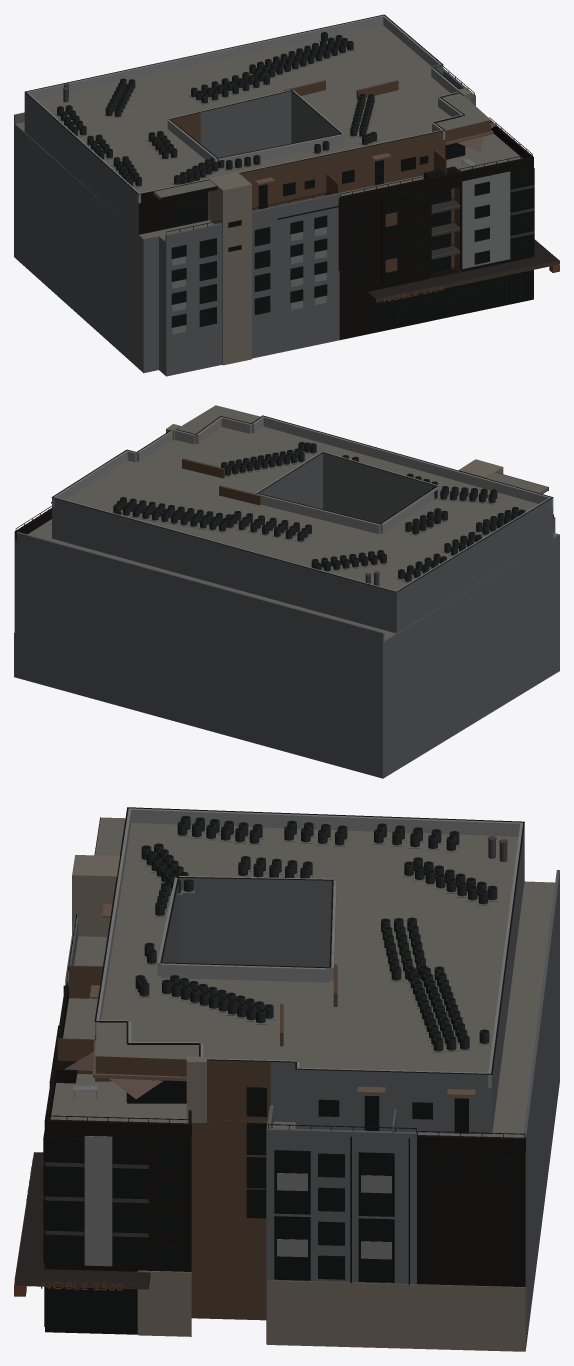
File: noble-2500-look.glb
The picture shows the model from 3 angles, top to bottom: view 1: azimuth 30°, elevation 25°; view 2: azimuth 150°, elevation 25°; view 3: azimuth 270°, elevation 25°; orthographic projection. The views are drawn at different scales.
Visible parts, largest first — view 1: n_wall_grey_siding, n_roof_membrane, n_glass_window, n_wall_charcoal, n_metal_dark_bronze, n_wall_wood_siding, n_parapet_white, n_metal_condenser, n_wall_stone, n_wall_white_panel, n_canopy_top, n_spandrel_grey (+1 smaller); view 2: n_wall_grey_siding, n_roof_membrane, n_parapet_white, n_metal_condenser, n_metal_dark_bronze, n_wall_wood_siding, n_wall_stone, n_wall_charcoal; view 3: n_roof_membrane, n_wall_grey_siding, n_glass_window, n_wall_stone, n_wall_charcoal, n_wall_wood_siding, n_metal_dark_bronze, n_metal_condenser, n_parapet_white, n_wall_white_panel, n_canopy_top, n_trim_eave_tan (+3 smaller).
Part boxes in pixels (x1,y1,x2,y2): n_wall_grey_siding: [14, 59, 475, 376]; n_roof_membrane: [15, 25, 522, 241]; n_glass_window: [172, 143, 533, 330]; n_wall_charcoal: [138, 120, 533, 339]; n_metal_dark_bronze: [25, 14, 534, 330]; n_wall_wood_siding: [171, 80, 558, 302]; n_parapet_white: [26, 15, 464, 203]; n_metal_condenser: [57, 32, 376, 186]; n_wall_stone: [209, 88, 471, 365]; n_wall_white_panel: [172, 158, 510, 334]; n_canopy_top: [367, 240, 558, 301]; n_spandrel_grey: [431, 184, 534, 272]; n_wall_grey_siding: [15, 453, 559, 778]; n_roof_membrane: [27, 405, 559, 641]; n_parapet_white: [52, 416, 553, 591]; n_metal_condenser: [113, 442, 525, 581]; n_metal_dark_bronze: [15, 415, 553, 592]; n_wall_wood_siding: [182, 435, 261, 505]; n_wall_stone: [14, 424, 503, 677]; n_wall_charcoal: [14, 472, 548, 632]; n_roof_membrane: [50, 817, 554, 1137]; n_wall_grey_siding: [65, 825, 559, 1350]; n_glass_window: [46, 1079, 519, 1330]; n_wall_stone: [72, 855, 525, 1351]; n_wall_charcoal: [44, 817, 525, 1286]; n_wall_wood_siding: [15, 964, 337, 1320]; n_metal_dark_bronze: [43, 807, 525, 1334]; n_metal_condenser: [135, 815, 497, 1051]; n_parapet_white: [95, 808, 522, 1087]; n_wall_white_panel: [73, 1085, 391, 1266]; n_canopy_top: [15, 1152, 150, 1288]; n_trim_eave_tan: [89, 904, 475, 1096].
Size of the model in its own units: 53.45 by 23.03 by 43.08.
